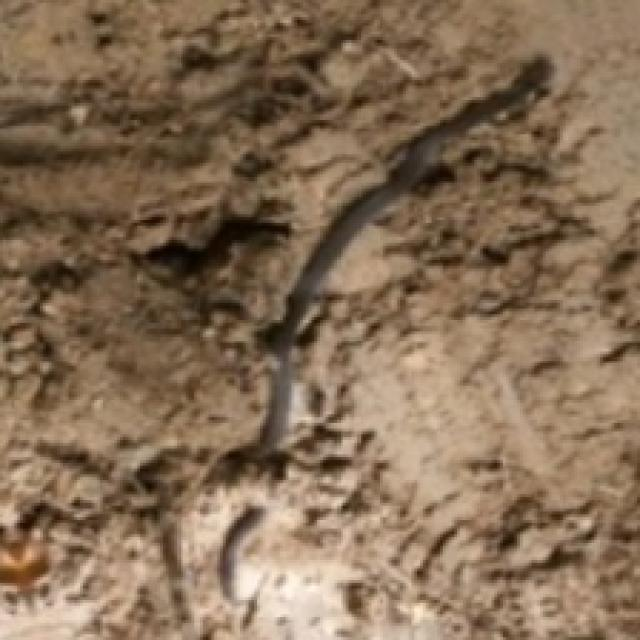gervais worm snake: (203, 54, 551, 480), (220, 506, 262, 602)
